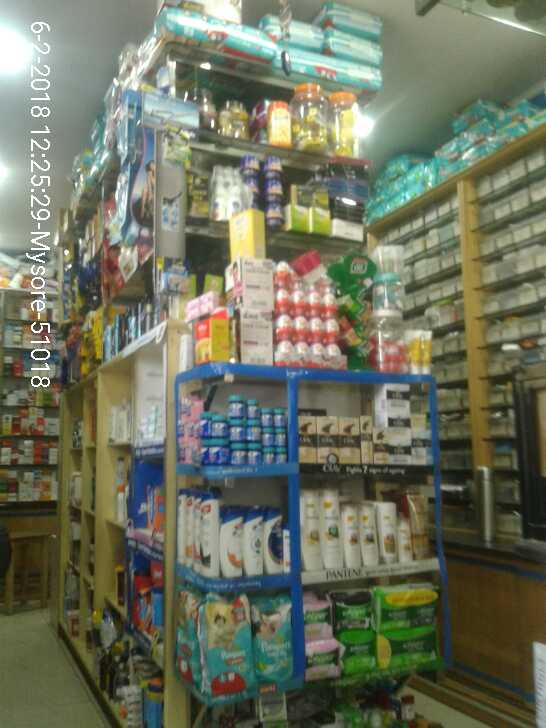beauty: (217, 504, 246, 578), (316, 489, 340, 571), (177, 493, 202, 566), (240, 509, 263, 580), (199, 490, 217, 577), (302, 489, 319, 577), (374, 501, 398, 563), (262, 505, 282, 577), (355, 507, 378, 567), (338, 415, 361, 467), (339, 506, 358, 568), (315, 417, 339, 465), (359, 412, 376, 464), (394, 524, 415, 559), (371, 425, 389, 461)
pharmacy: (202, 589, 253, 698), (253, 600, 292, 681), (169, 587, 199, 688), (377, 583, 440, 627), (377, 627, 440, 665), (303, 641, 340, 683), (336, 588, 372, 627), (338, 631, 374, 670), (304, 595, 333, 638), (207, 438, 227, 465), (226, 395, 245, 419), (229, 442, 247, 466), (226, 419, 245, 440), (246, 417, 259, 442), (260, 424, 273, 447), (272, 445, 287, 463), (246, 441, 258, 463), (212, 416, 224, 438), (272, 407, 285, 425), (275, 429, 288, 447), (261, 407, 272, 427), (246, 401, 259, 417), (260, 447, 272, 462)
